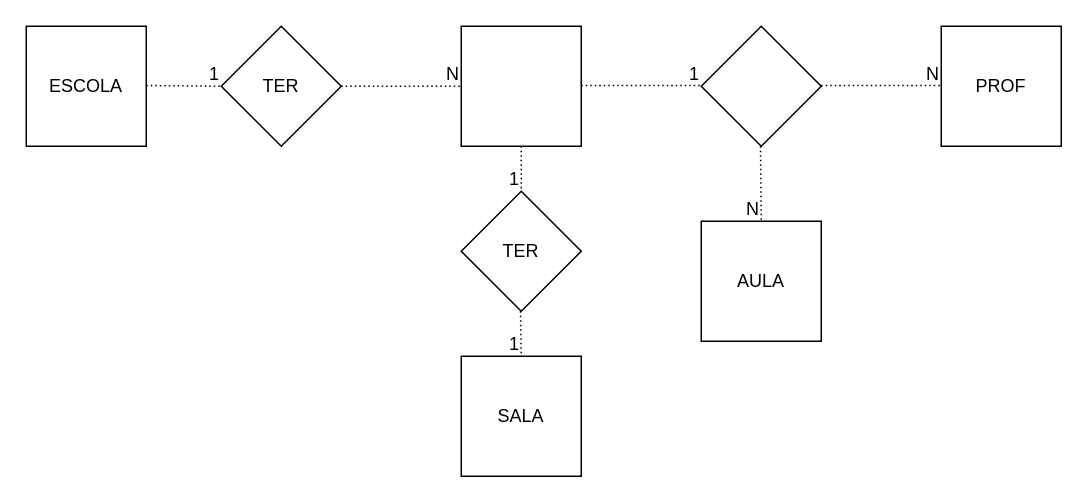
Image size: 1088x503. Some labels were removed from this diagram. The box of each missing label's shape, as (x1, y1, x2, y2) in pixels:
MINISTRAR: (700, 25, 821, 146)
TURMAS: (460, 25, 581, 146)
